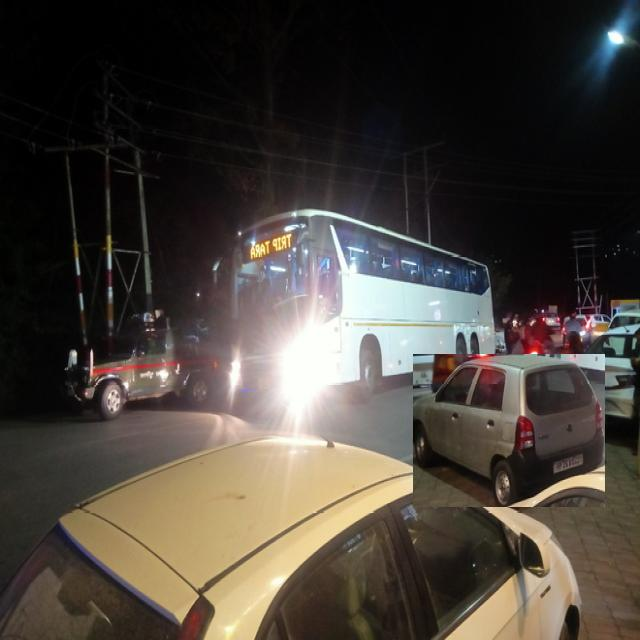bus: (230, 210, 495, 399)
car: (0, 437, 580, 639), (413, 355, 604, 507), (65, 314, 219, 419)
